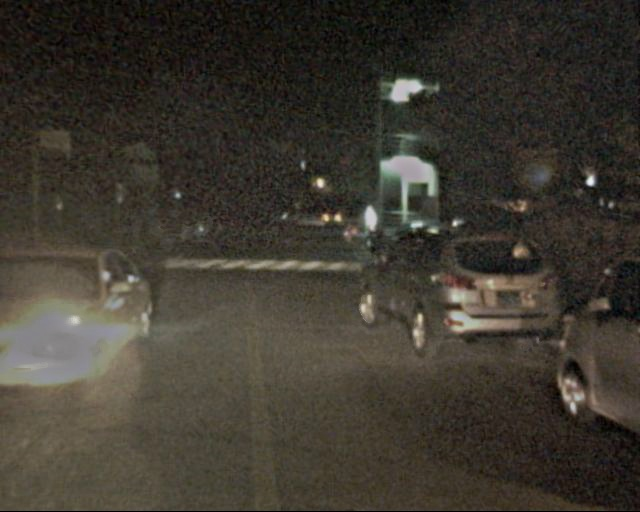person: (363, 220, 387, 278), (121, 216, 142, 267), (168, 217, 181, 256)
